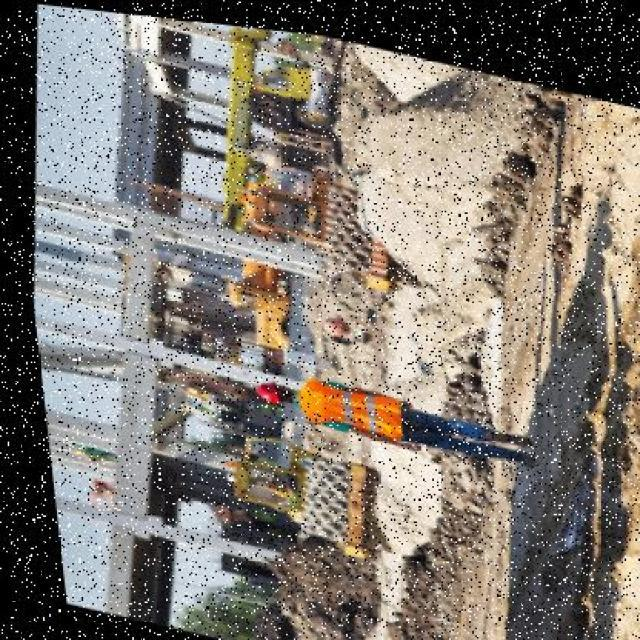helmet: (240, 368, 275, 402)
vest: (274, 363, 404, 439)
